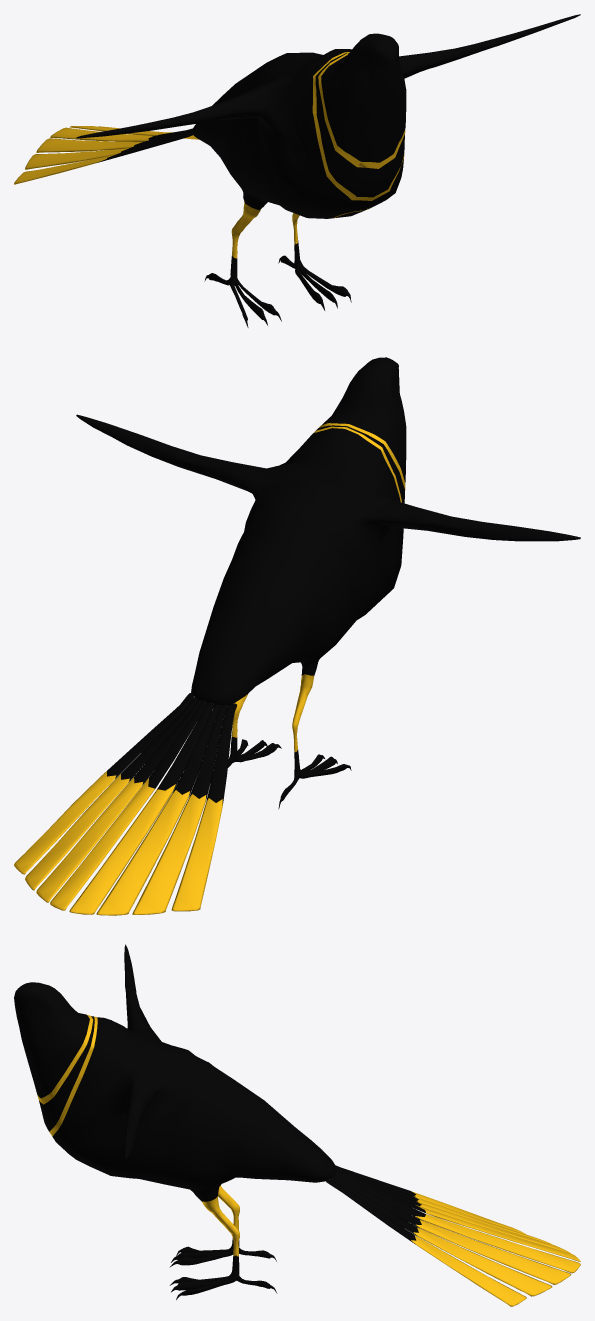
Rendered from ave2cuerpo.obj.
The picture shows the model from 3 angles, top to bottom: view 1: azimuth 30°, elevation 25°; view 2: azimuth 150°, elevation 25°; view 3: azimuth 270°, elevation 25°; orthographic projection. The views are drawn at different scales.
Parts seen in each view (by area): view 1: ave3:Mesh polySurface3, ave3:Mesh polySurface36, ave3:Mesh polySurface16, ave3:Mesh polySurface35, ave3:Mesh polySurface34; view 2: ave3:Mesh polySurface3, ave3:Mesh polySurface16, ave3:Mesh polySurface36, ave3:Mesh polySurface35, ave3:Mesh polySurface34, ave3:Mesh polySurface19, polySurface18 ave3:Mesh, ave3:Mesh polySurface17; view 3: ave3:Mesh polySurface3, ave3:Mesh polySurface16, ave3:Mesh polySurface19, polySurface18 ave3:Mesh, ave3:Mesh polySurface17, ave3:Mesh polySurface36, ave3:Mesh polySurface34, ave3:Mesh polySurface35.
Boxes of the visible parts, bbox=[...] form: ave3:Mesh polySurface3: bbox=[76, 14, 580, 327]; ave3:Mesh polySurface36: bbox=[36, 130, 191, 152]; ave3:Mesh polySurface16: bbox=[50, 126, 192, 141]; ave3:Mesh polySurface35: bbox=[25, 132, 191, 169]; ave3:Mesh polySurface34: bbox=[14, 133, 192, 184]; ave3:Mesh polySurface3: bbox=[76, 357, 580, 809]; ave3:Mesh polySurface16: bbox=[50, 700, 214, 914]; ave3:Mesh polySurface36: bbox=[96, 704, 221, 915]; ave3:Mesh polySurface35: bbox=[132, 704, 228, 914]; ave3:Mesh polySurface34: bbox=[171, 703, 237, 911]; ave3:Mesh polySurface19: bbox=[36, 700, 201, 902]; polySurface18 ave3:Mesh: bbox=[25, 697, 197, 890]; ave3:Mesh polySurface17: bbox=[14, 693, 193, 874]; ave3:Mesh polySurface3: bbox=[14, 944, 335, 1299]; ave3:Mesh polySurface16: bbox=[335, 1169, 580, 1273]; ave3:Mesh polySurface19: bbox=[332, 1175, 571, 1284]; polySurface18 ave3:Mesh: bbox=[329, 1177, 552, 1296]; ave3:Mesh polySurface17: bbox=[326, 1179, 526, 1306]; ave3:Mesh polySurface36: bbox=[335, 1168, 570, 1253]; ave3:Mesh polySurface34: bbox=[335, 1165, 525, 1234]; ave3:Mesh polySurface35: bbox=[335, 1167, 551, 1244].
Size of the model in its own units: 0.8818 by 0.5655 by 0.9873.
1 material, 1 textured.
